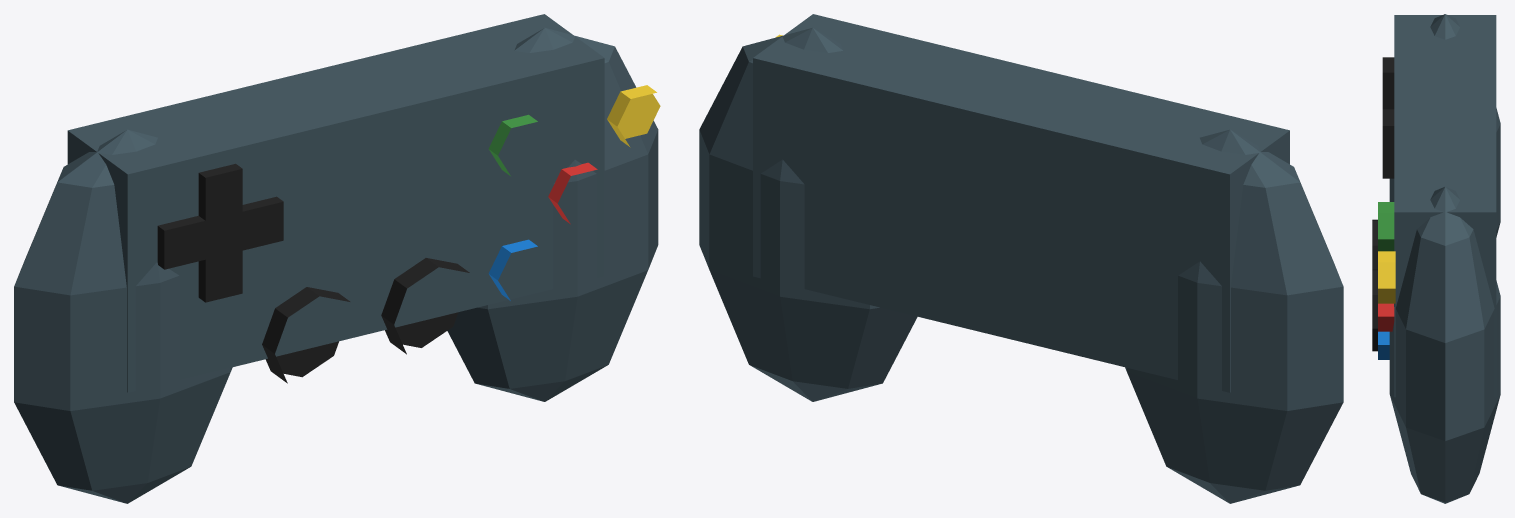
File: handkontroll.glb
3 renders of one model, left to right at view 1: azimuth 30°, elevation 25°; view 2: azimuth 150°, elevation 25°; view 3: azimuth 270°, elevation 25°, orthographic. The views are drawn at different scales.
Parts seen in each view (by area): view 1: handkontroll; view 2: handkontroll; view 3: handkontroll.
Boxes of the visible parts, x1,y1,x2,y2 form: handkontroll: (14,14,660,503); handkontroll: (699,14,1343,503); handkontroll: (1372,14,1500,503).
Bounding box in the file's own units: 0.4322 × 0.24 × 0.0881.
